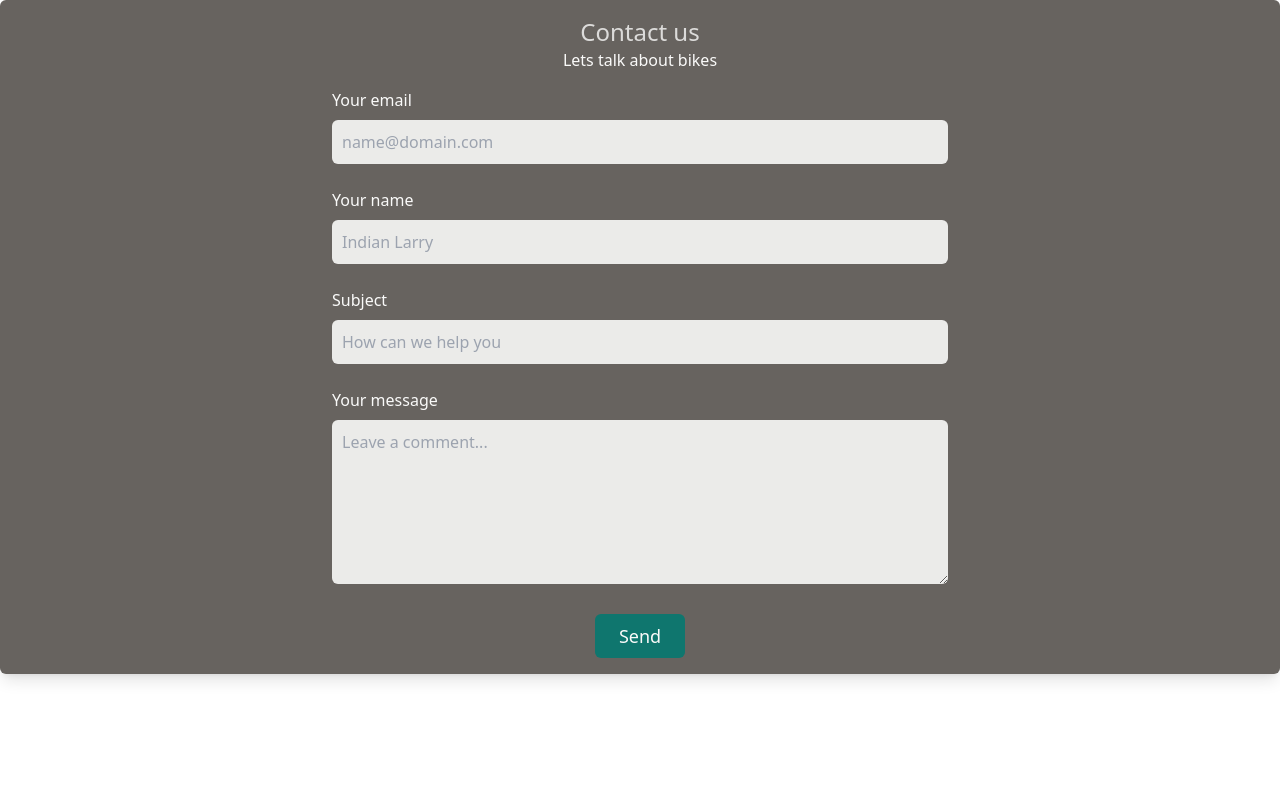
ContactPage › validator should display message for empty senderName input and prevent submission on click
In the field with test id "email": (640, 142) top-left (332, 120), bottom-right (948, 164), type "valid.email@address.co.ck"
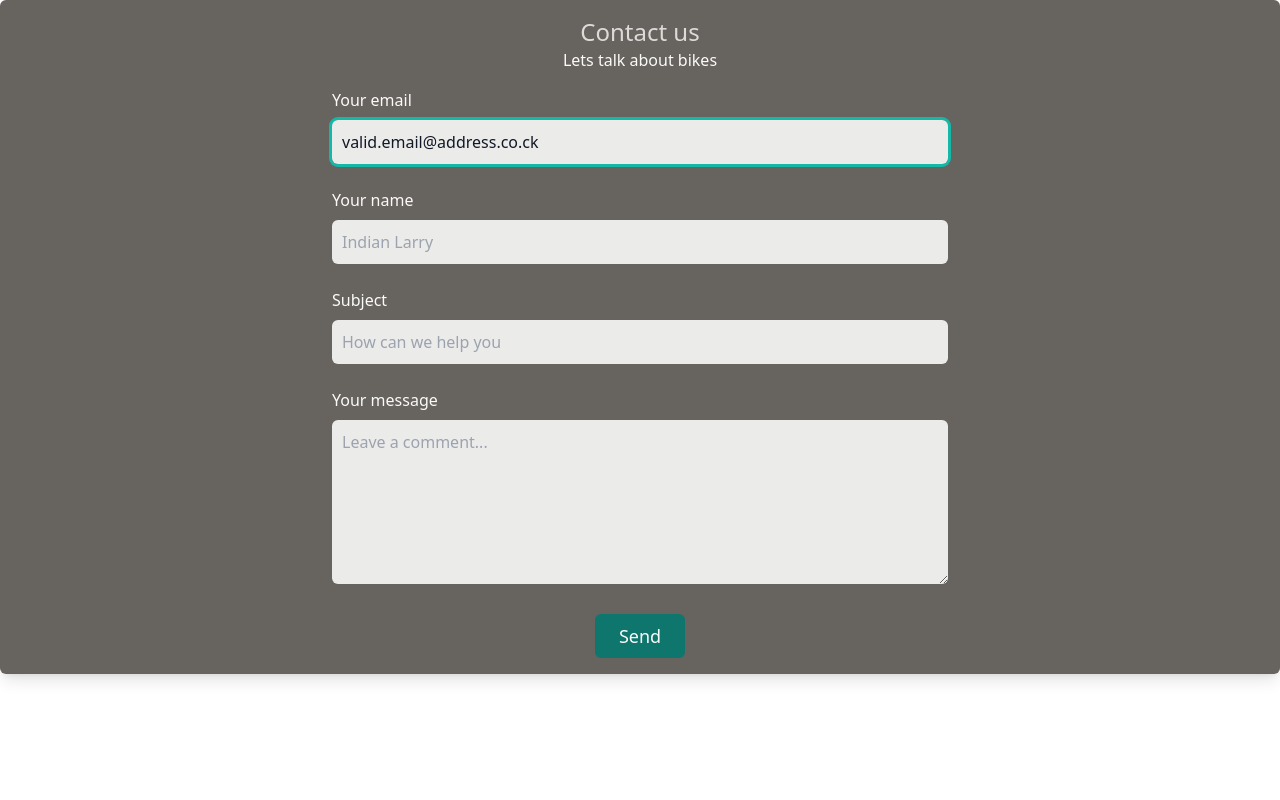
In the field with test id "subject": (640, 342) top-left (332, 320), bottom-right (948, 364), type "valid input"
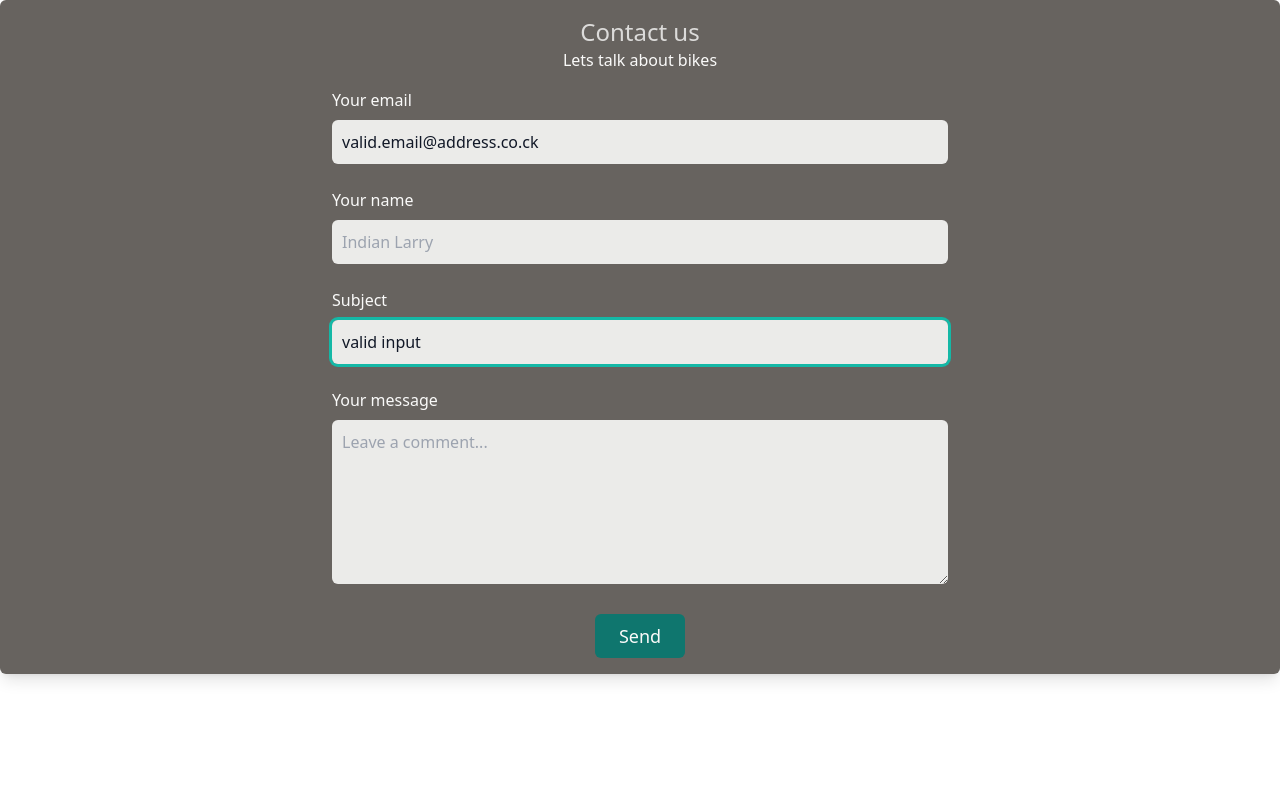
In the text box with test id "message": (640, 502) top-left (332, 420), bottom-right (948, 584), type "valid input"
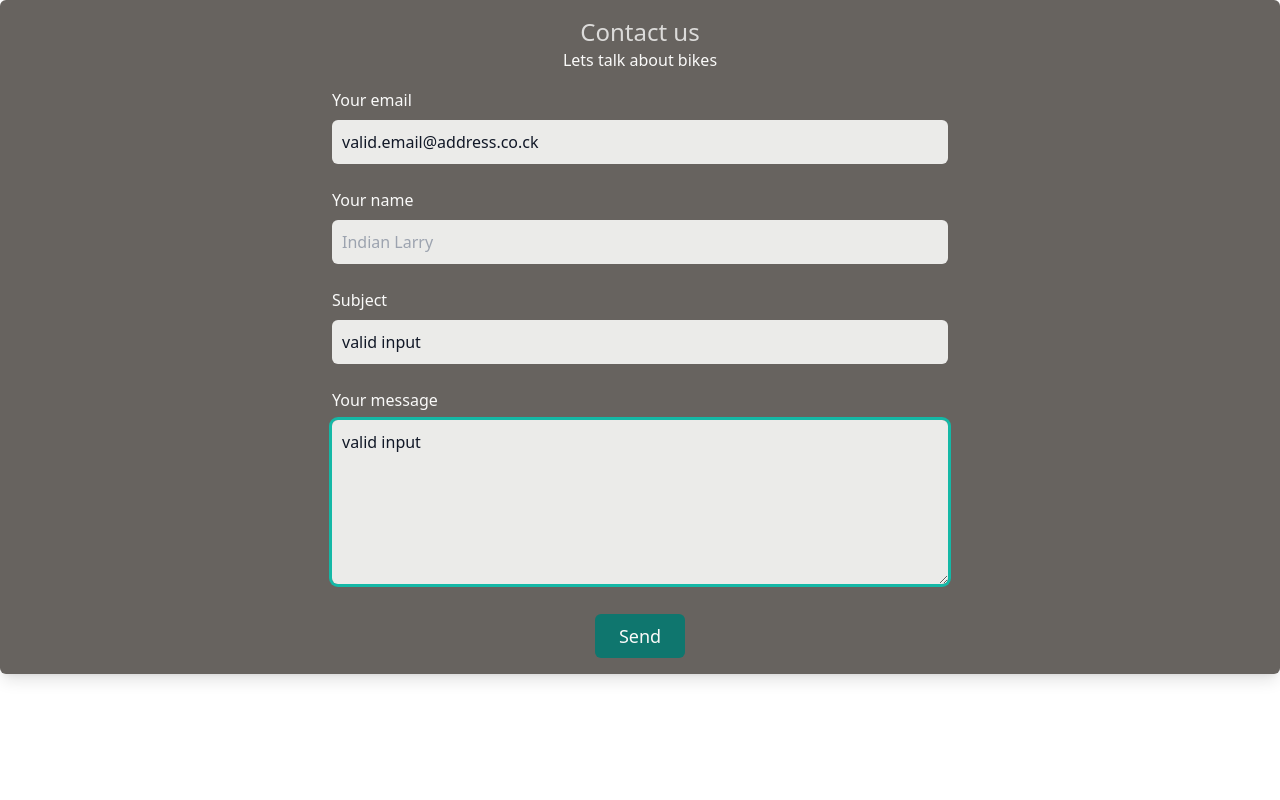
Click the button with test id "contact-form-submit-button": (640, 636) top-left (595, 614), bottom-right (685, 658)
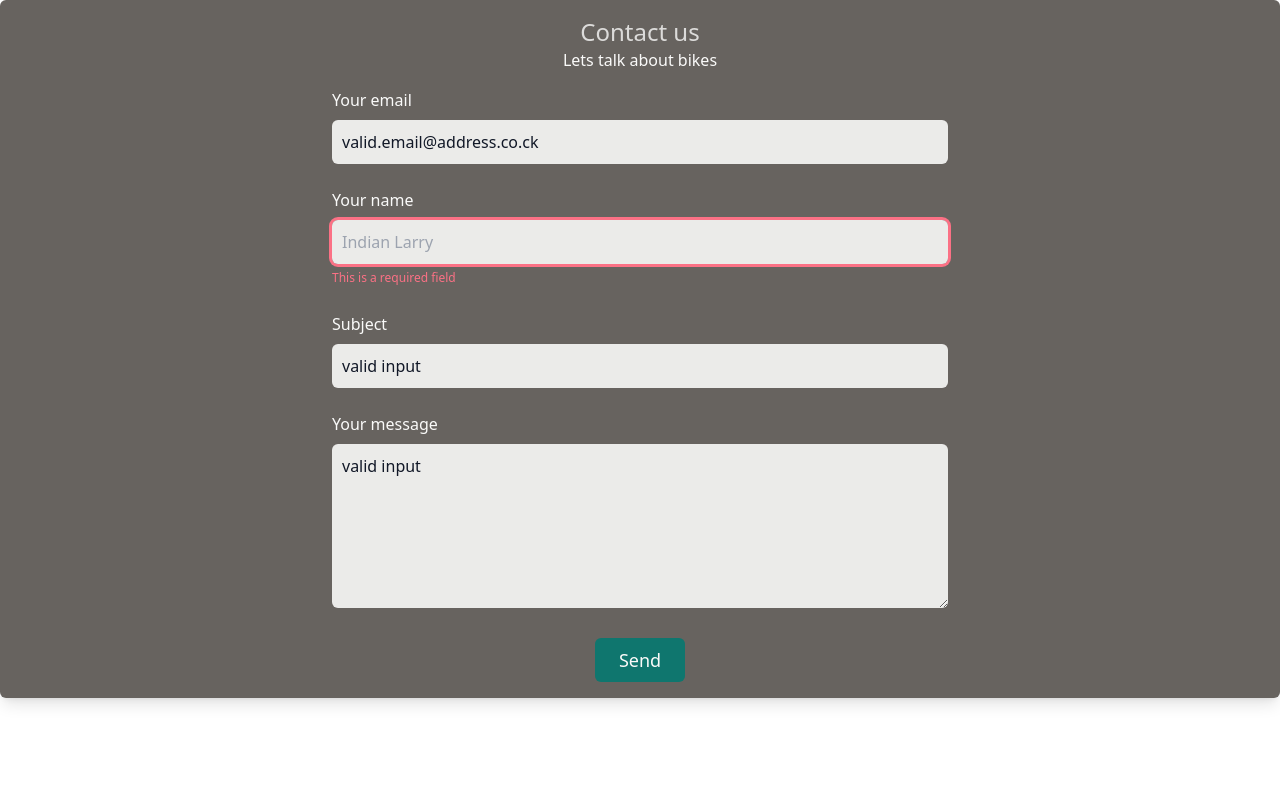
Result: the text "This is a required field" is shown once at top-left (332, 269), bottom-right (456, 286)
